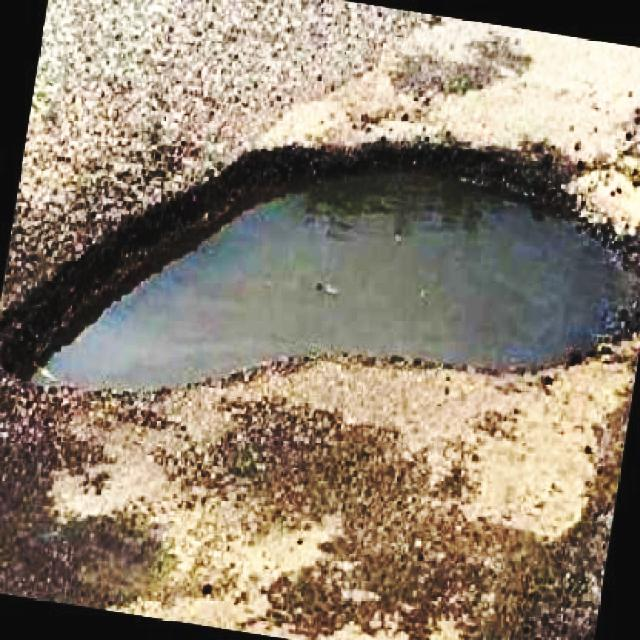pothole: (0, 134, 640, 406)
